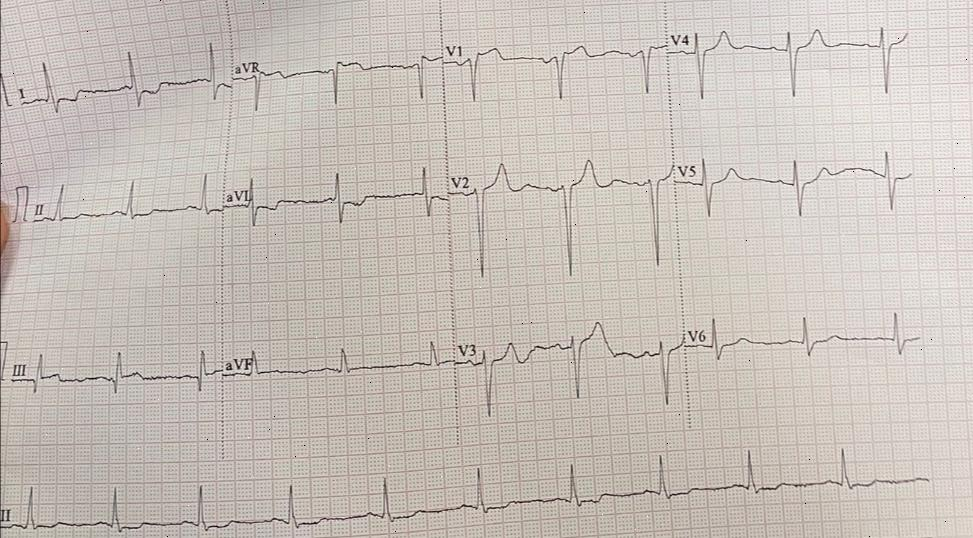Lead_I: (12, 41, 234, 120)
Lead_II: (29, 169, 222, 238)
Lead_III: (8, 340, 225, 410)
Lead_II_ext: (0, 438, 946, 536)
Lead_V1: (442, 28, 668, 111)
Lead_V2: (444, 147, 678, 288)
Lead_V3: (457, 302, 686, 427)
Lead_V4: (665, 6, 914, 118)
Lead_V5: (672, 141, 926, 224)
Lead_V6: (682, 300, 928, 374)
Lead_aVF: (220, 337, 459, 394)
Lead_aVL: (220, 166, 448, 233)
Lead_aVR: (229, 40, 443, 120)
